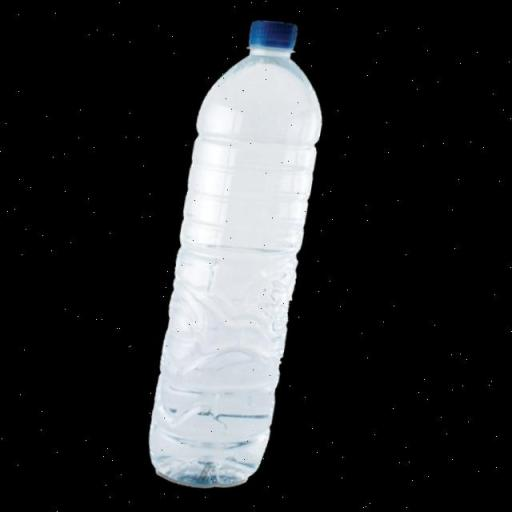plastic: (141, 10, 342, 496)
